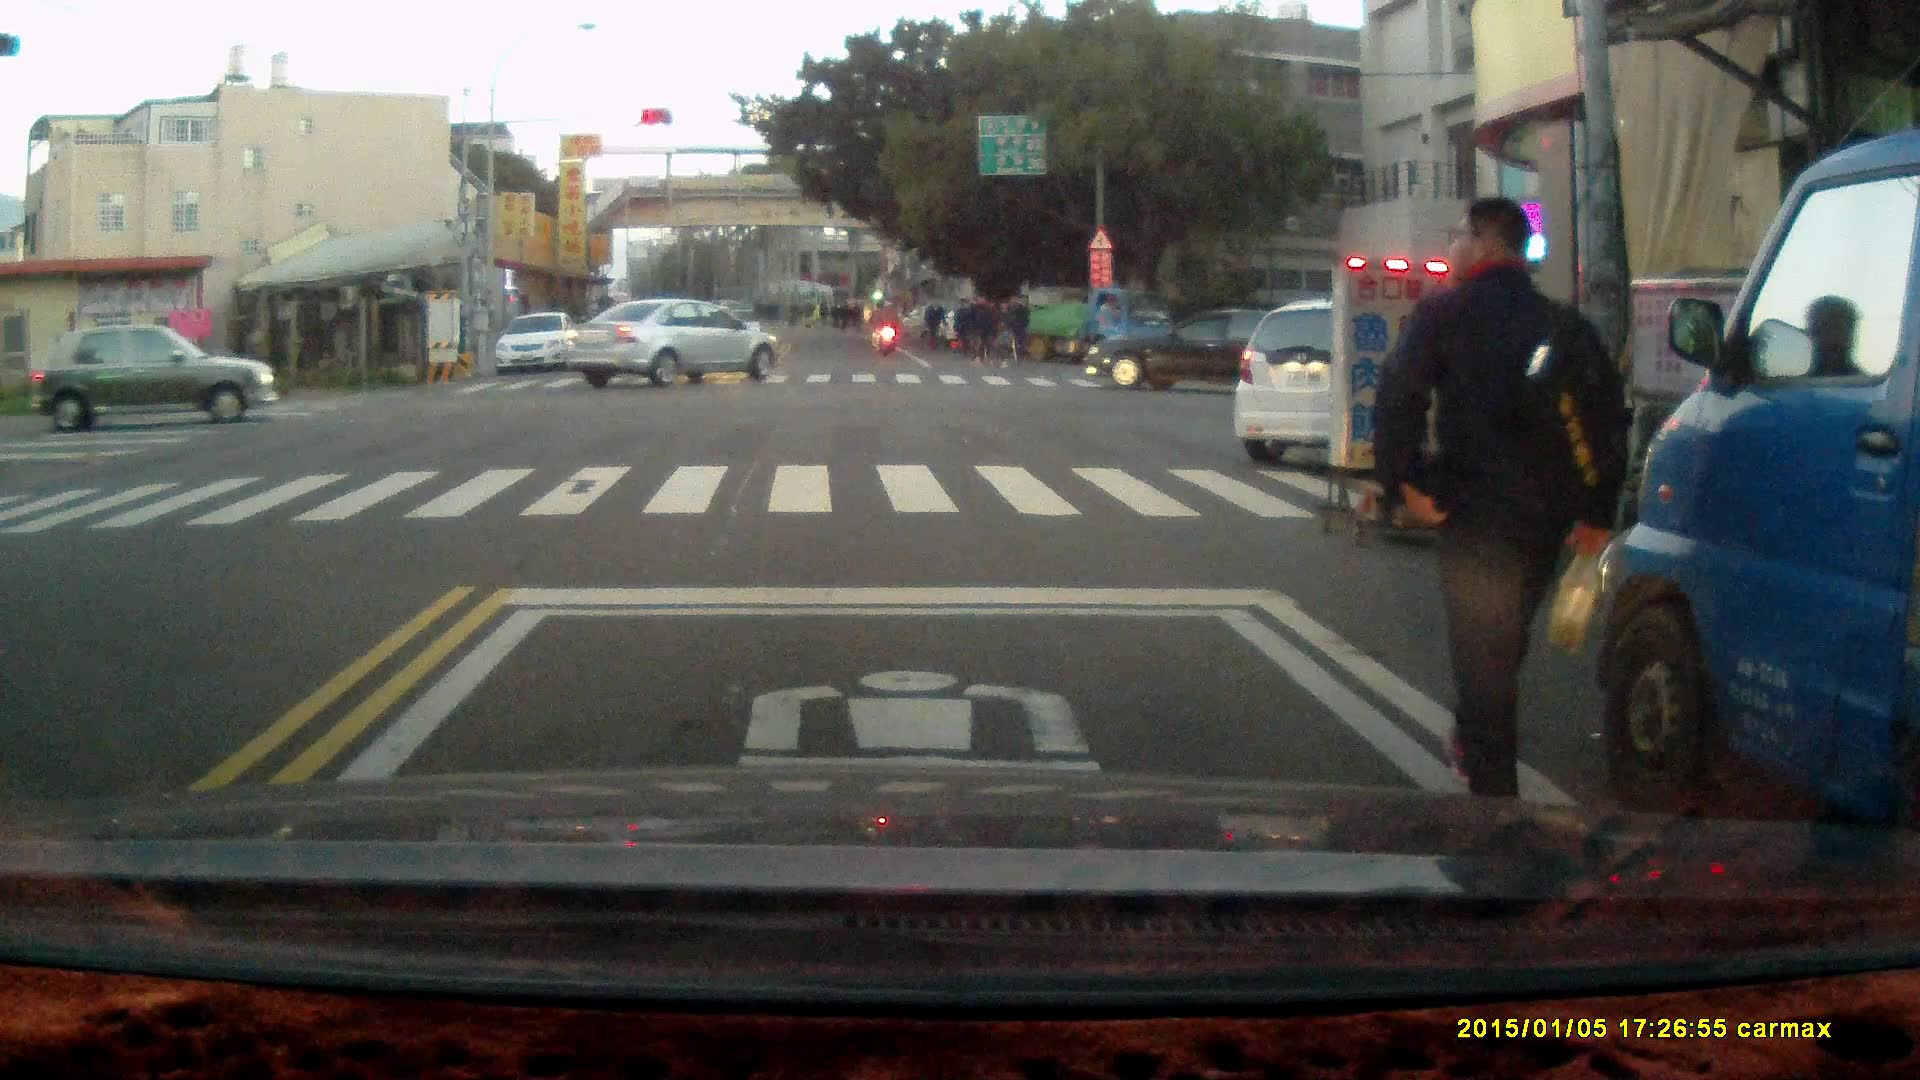pedestrian: (1369, 192, 1630, 826), (964, 290, 994, 368), (1002, 292, 1031, 370)
vehicle: (1598, 132, 1920, 846), (1233, 296, 1533, 459), (26, 324, 284, 434), (566, 298, 790, 390), (1098, 304, 1323, 393), (1002, 284, 1179, 367), (498, 313, 586, 377)
